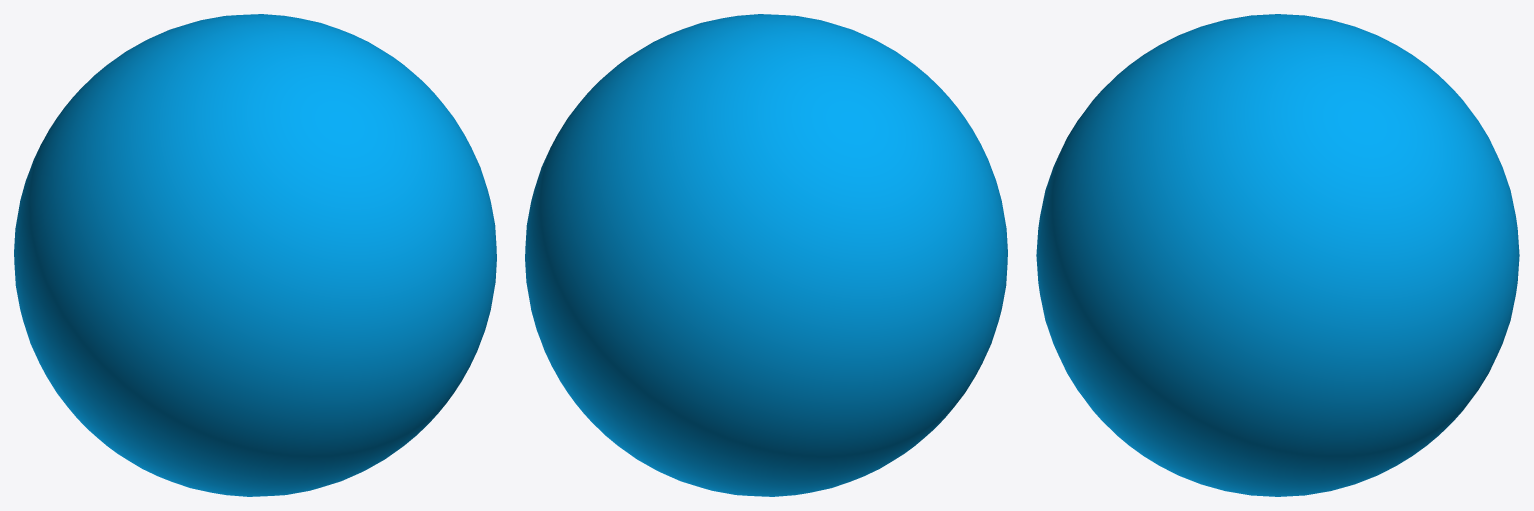
File: Ball.glb
3 renders of one model, left to right at view 1: azimuth 30°, elevation 25°; view 2: azimuth 150°, elevation 25°; view 3: azimuth 270°, elevation 25°, orthographic.
Visible parts, largest first — view 1: mesh_id27; view 2: mesh_id27; view 3: mesh_id27.
Part boxes in pixels (x1=…): mesh_id27: x1=14, y1=14, x2=496, y2=496; mesh_id27: x1=525, y1=14, x2=1007, y2=496; mesh_id27: x1=1036, y1=14, x2=1519, y2=496.
Bounding box in the file's own units: 0.2397 × 0.2396 × 0.2396.
Materials: 1 (1 with a texture image).
